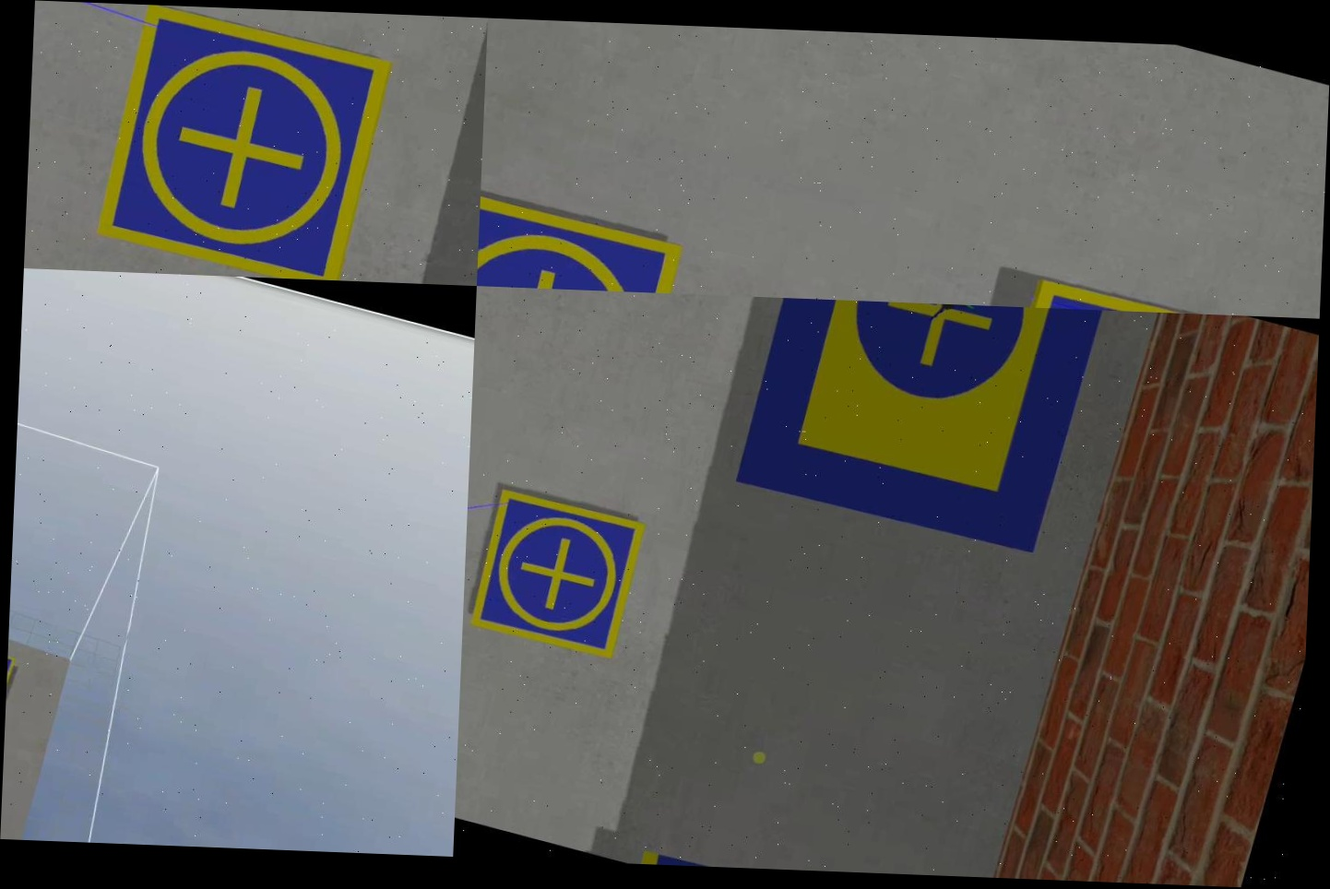large_base: (726, 296, 1110, 563)
small_base: (85, 3, 403, 283), (461, 485, 653, 667), (477, 179, 692, 294)
